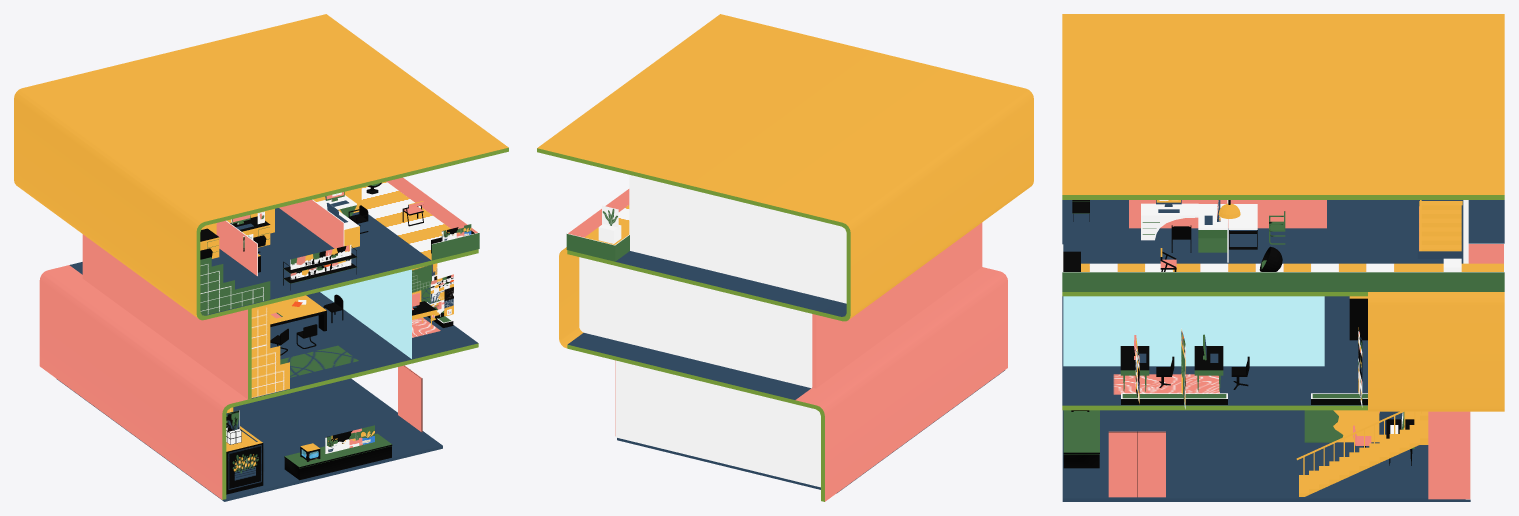
Rendered from 1114_产品线.fbx.
3 renders of one model, left to right at view 1: azimuth 30°, elevation 25°; view 2: azimuth 150°, elevation 25°; view 3: azimuth 270°, elevation 25°, orthographic. The views are drawn at different scales.
Parts seen in each view (by area): view 1: building, Plane_5, glass, Plane_2_3, table, Plane_9, machine1, bar, wall2, flower, wall, Plane_8 (+7 smaller); view 2: building, sacond_glass, bar, Plane_5; view 3: building, Plane_5, glass, sacond_glass, bar, Cube_5_2, stairs1, wall2, stairs2, table, Cube_2_3, Cube_4 (+11 smaller).
Boxes of the visible parts, x1=… form: building: x1=14, y1=14, x2=508, y2=499; Plane_5: x1=57, y1=378, x2=442, y2=501; glass: x1=320, y1=269, x2=411, y2=358; Plane_2_3: x1=251, y1=304, x2=289, y2=397; table: x1=284, y1=433, x2=392, y2=480; Plane_9: x1=200, y1=257, x2=270, y2=315; machine1: x1=226, y1=426, x2=264, y2=494; bar: x1=386, y1=177, x2=479, y2=260; wall2: x1=279, y1=199, x2=344, y2=248; flower: x1=243, y1=211, x2=471, y2=453; wall: x1=216, y1=220, x2=257, y2=276; Plane_8: x1=280, y1=345, x2=358, y2=377; building: x1=537, y1=14, x2=1033, y2=501; sacond_glass: x1=559, y1=247, x2=583, y2=348; bar: x1=566, y1=188, x2=629, y2=261; Plane_5: x1=617, y1=370, x2=1004, y2=493; building: x1=1062, y1=14, x2=1504, y2=499; Plane_5: x1=1062, y1=410, x2=1470, y2=501; glass: x1=1063, y1=296, x2=1324, y2=366; sacond_glass: x1=1368, y1=292, x2=1504, y2=411; bar: x1=1062, y1=243, x2=1504, y2=291; Cube_5_2: x1=1428, y1=411, x2=1470, y2=499; stairs1: x1=1296, y1=411, x2=1428, y2=496; wall2: x1=1129, y1=200, x2=1326, y2=228; stairs2: x1=1419, y1=200, x2=1462, y2=251; table: x1=1063, y1=410, x2=1099, y2=468; Cube_2_3: x1=1108, y1=431, x2=1137, y2=497; Cube_4: x1=1137, y1=431, x2=1165, y2=497.
Size of the model in its own units: 1215 by 1060 by 1230.
